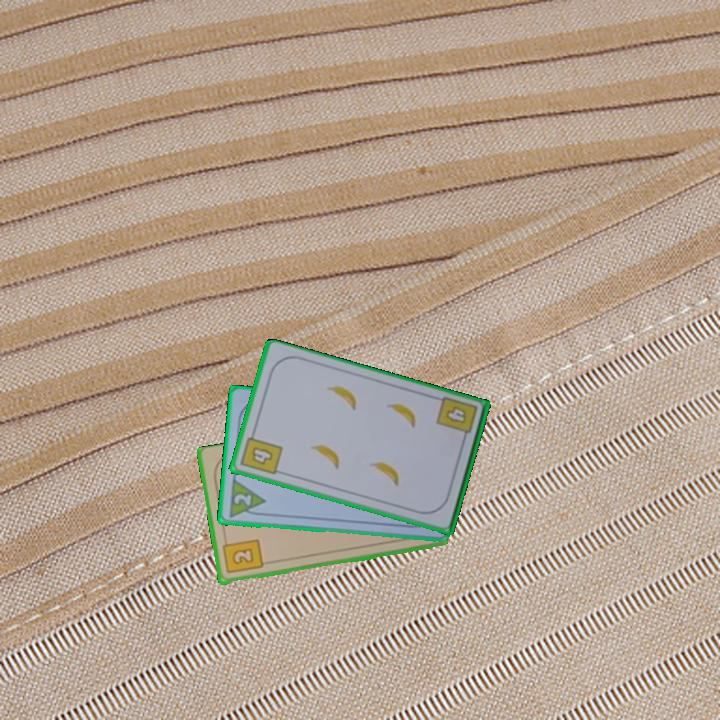2b: (219, 535, 265, 577)
2p: (230, 490, 254, 509)
4b: (433, 393, 480, 445), (237, 428, 285, 478)
